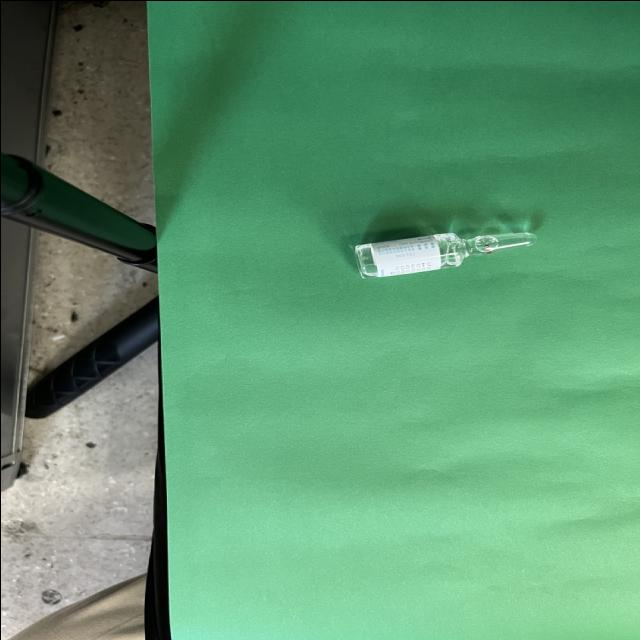Ampoules: (354, 231, 536, 277)
